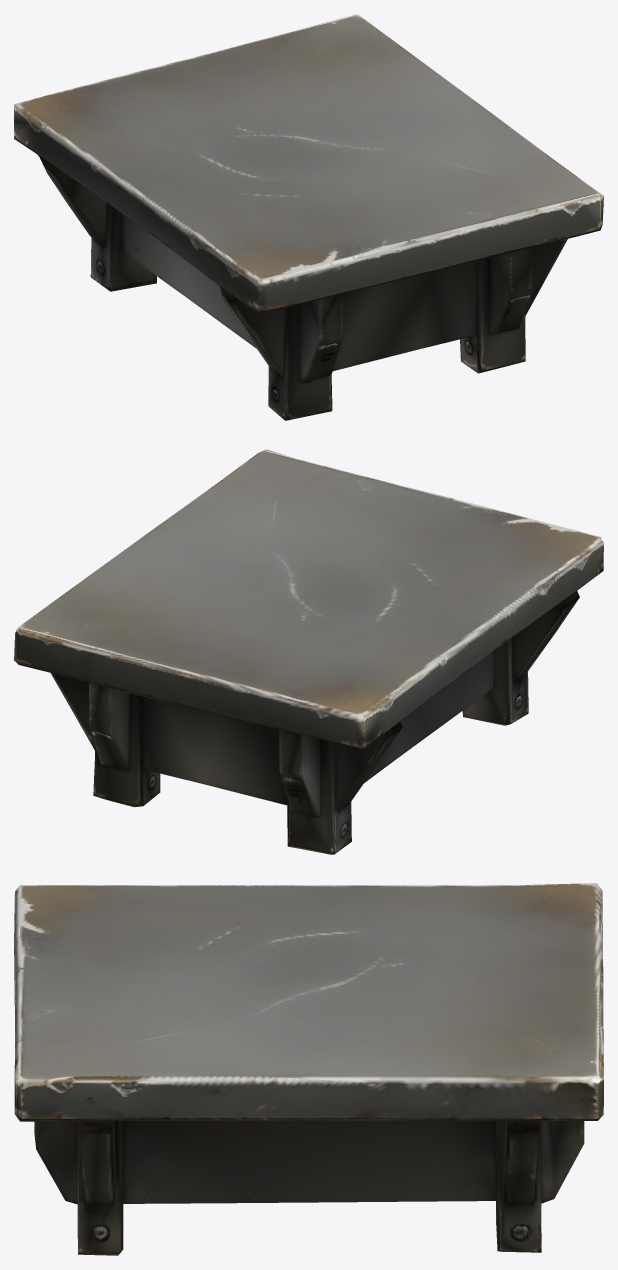
Rendered from tripo_convert_b5611cf2-99a4-4b9d-abf1-d06843d128fc.fbx.
3 renders of one model, top to bottom at view 1: azimuth 30°, elevation 25°; view 2: azimuth 150°, elevation 25°; view 3: azimuth 270°, elevation 25°, orthographic. The views are drawn at different scales.
Visible parts, largest first — view 1: tripo_node_b5611cf2; view 2: tripo_node_b5611cf2; view 3: tripo_node_b5611cf2.
Part boxes in pixels (<box>): tripo_node_b5611cf2: <box>14,14,603,420</box>; tripo_node_b5611cf2: <box>14,449,603,854</box>; tripo_node_b5611cf2: <box>14,883,603,1255</box>.
Size of the model in its own units: 0.8181 by 0.398 by 0.9998.
Materials: 1 (1 with a texture image).
